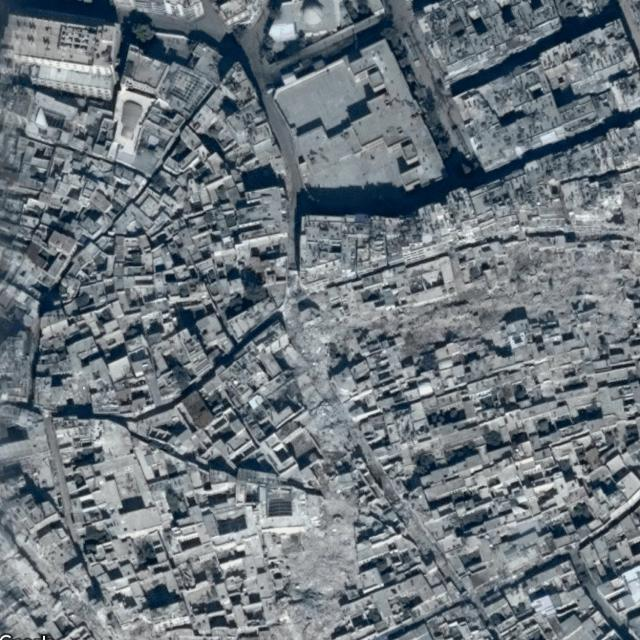damaged_building: (256, 244, 640, 640)
